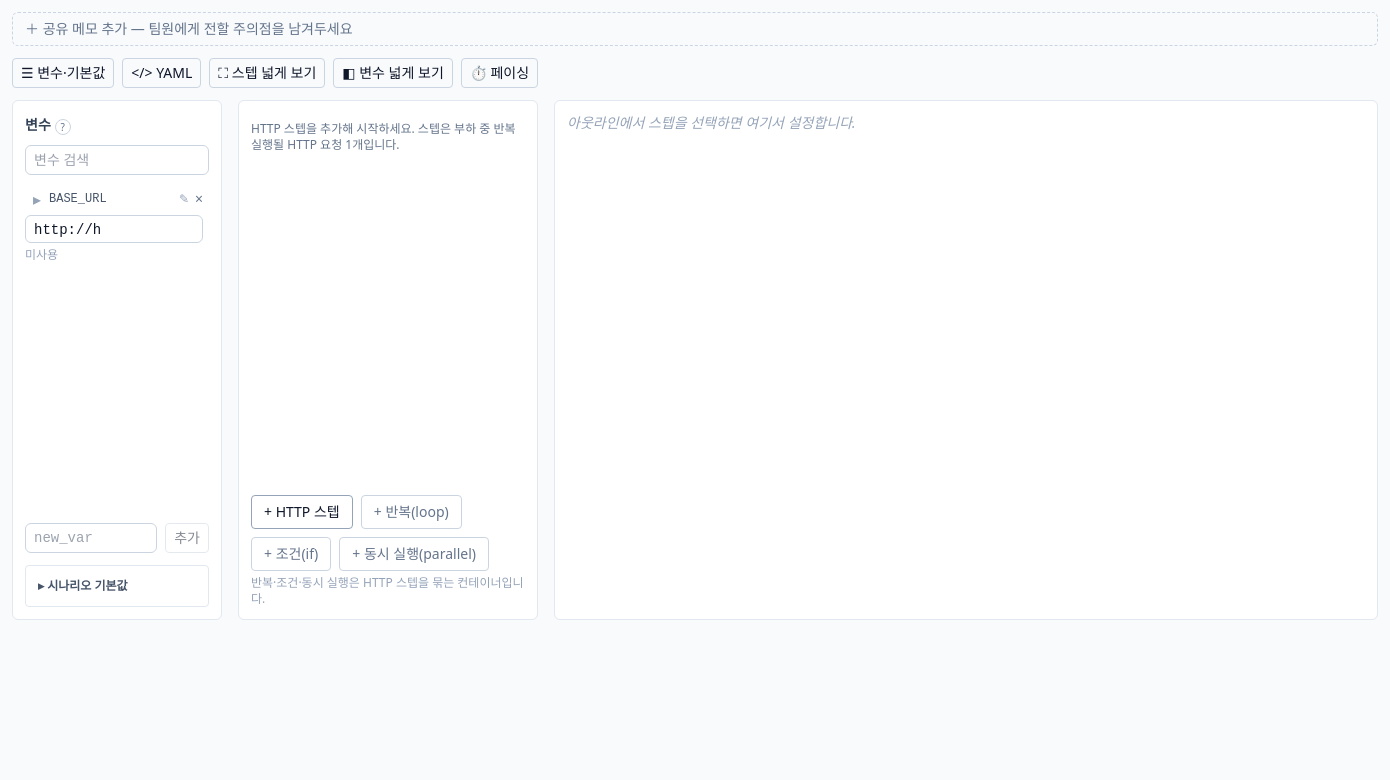
Test case: EditorShell › 변수 토글 버튼이 VariablesPanel을 접고 편다
The image size is (1390, 780).
Check: the element named "변수·시나리오 기본값" is shown, box [12,100,222,620]
Check: the text "☰" is shown, box [21,63,34,82]
Click the button with aria-label "변수·기본값 패널 접기/펼치기": (63, 73) [12,58,114,88]
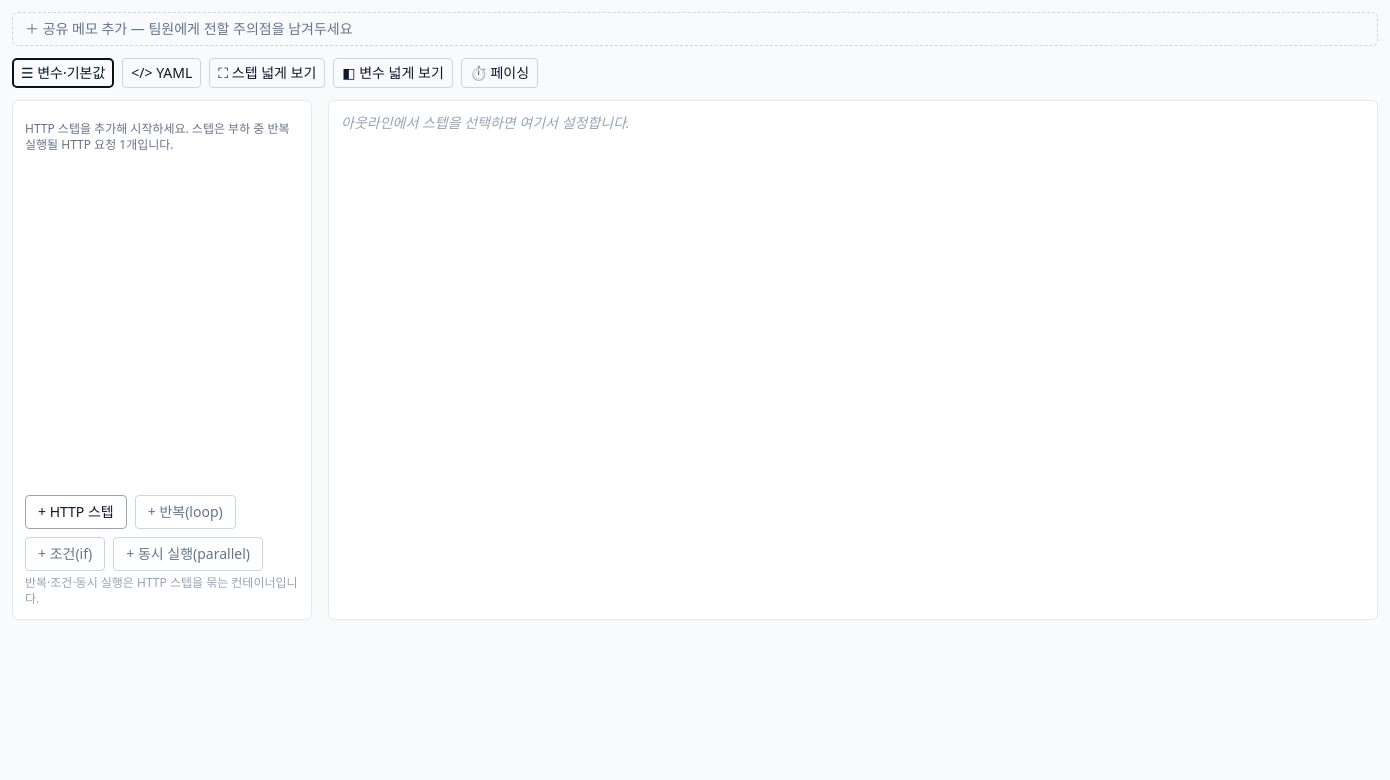
Click the button with aria-label "변수·기본값 패널 접기/펼치기": (63, 73) [12,58,114,88]
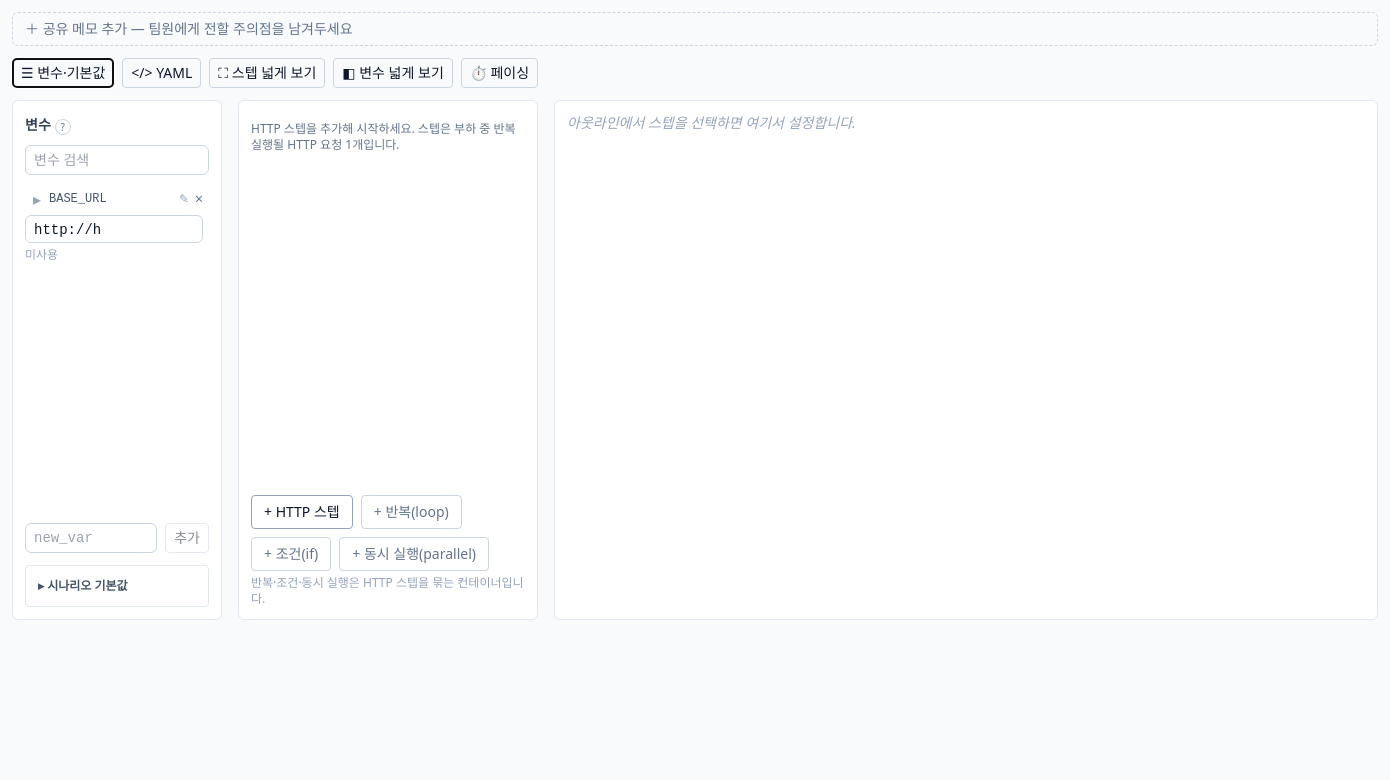
Check: the element named "변수·시나리오 기본값" is shown, box [12,100,222,620]
